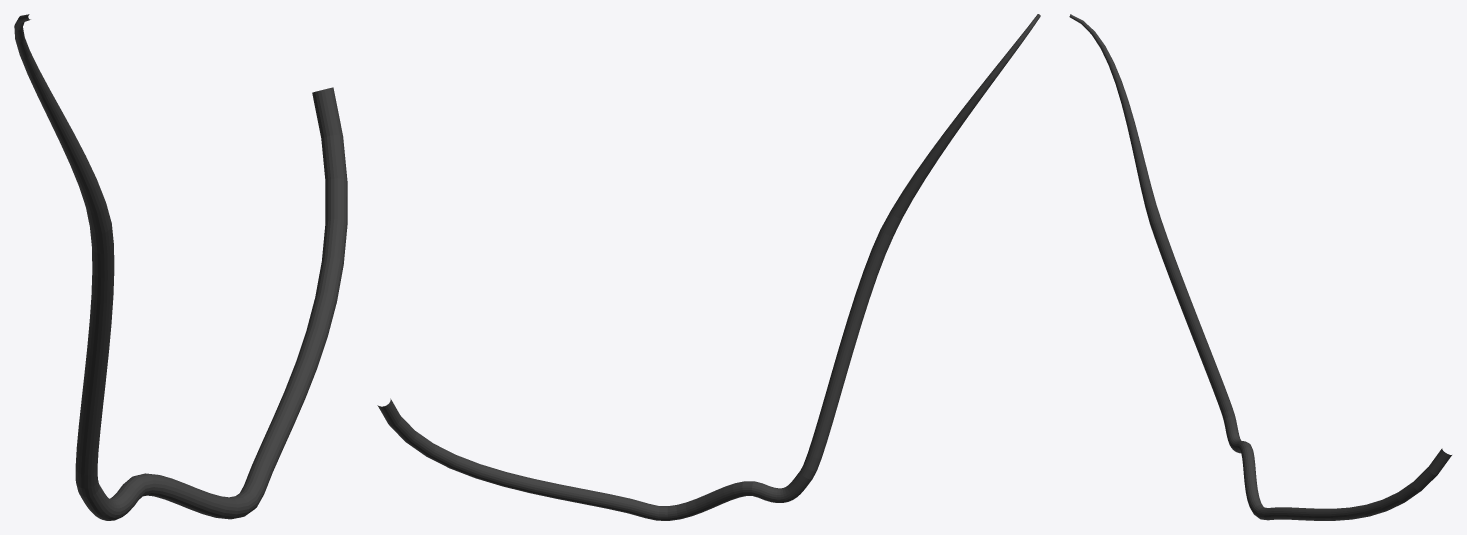
The model's file is n_V_V1_frontal_supraorbital.glb.
3 renders of one model, left to right at view 1: azimuth 30°, elevation 25°; view 2: azimuth 150°, elevation 25°; view 3: azimuth 270°, elevation 25°, orthographic. The views are drawn at different scales.
Parts seen in each view (by area): view 1: n_V_V1_frontal_supraorbital; view 2: n_V_V1_frontal_supraorbital; view 3: n_V_V1_frontal_supraorbital.
Part boxes in pixels (bbox=[...]): n_V_V1_frontal_supraorbital: bbox=[14, 14, 347, 520]; n_V_V1_frontal_supraorbital: bbox=[377, 14, 1040, 520]; n_V_V1_frontal_supraorbital: bbox=[1069, 14, 1451, 520].
Size of the model in its own units: 0.1004 by 0.1071 by 0.0933.
Materials: 1 (1 with a texture image).
